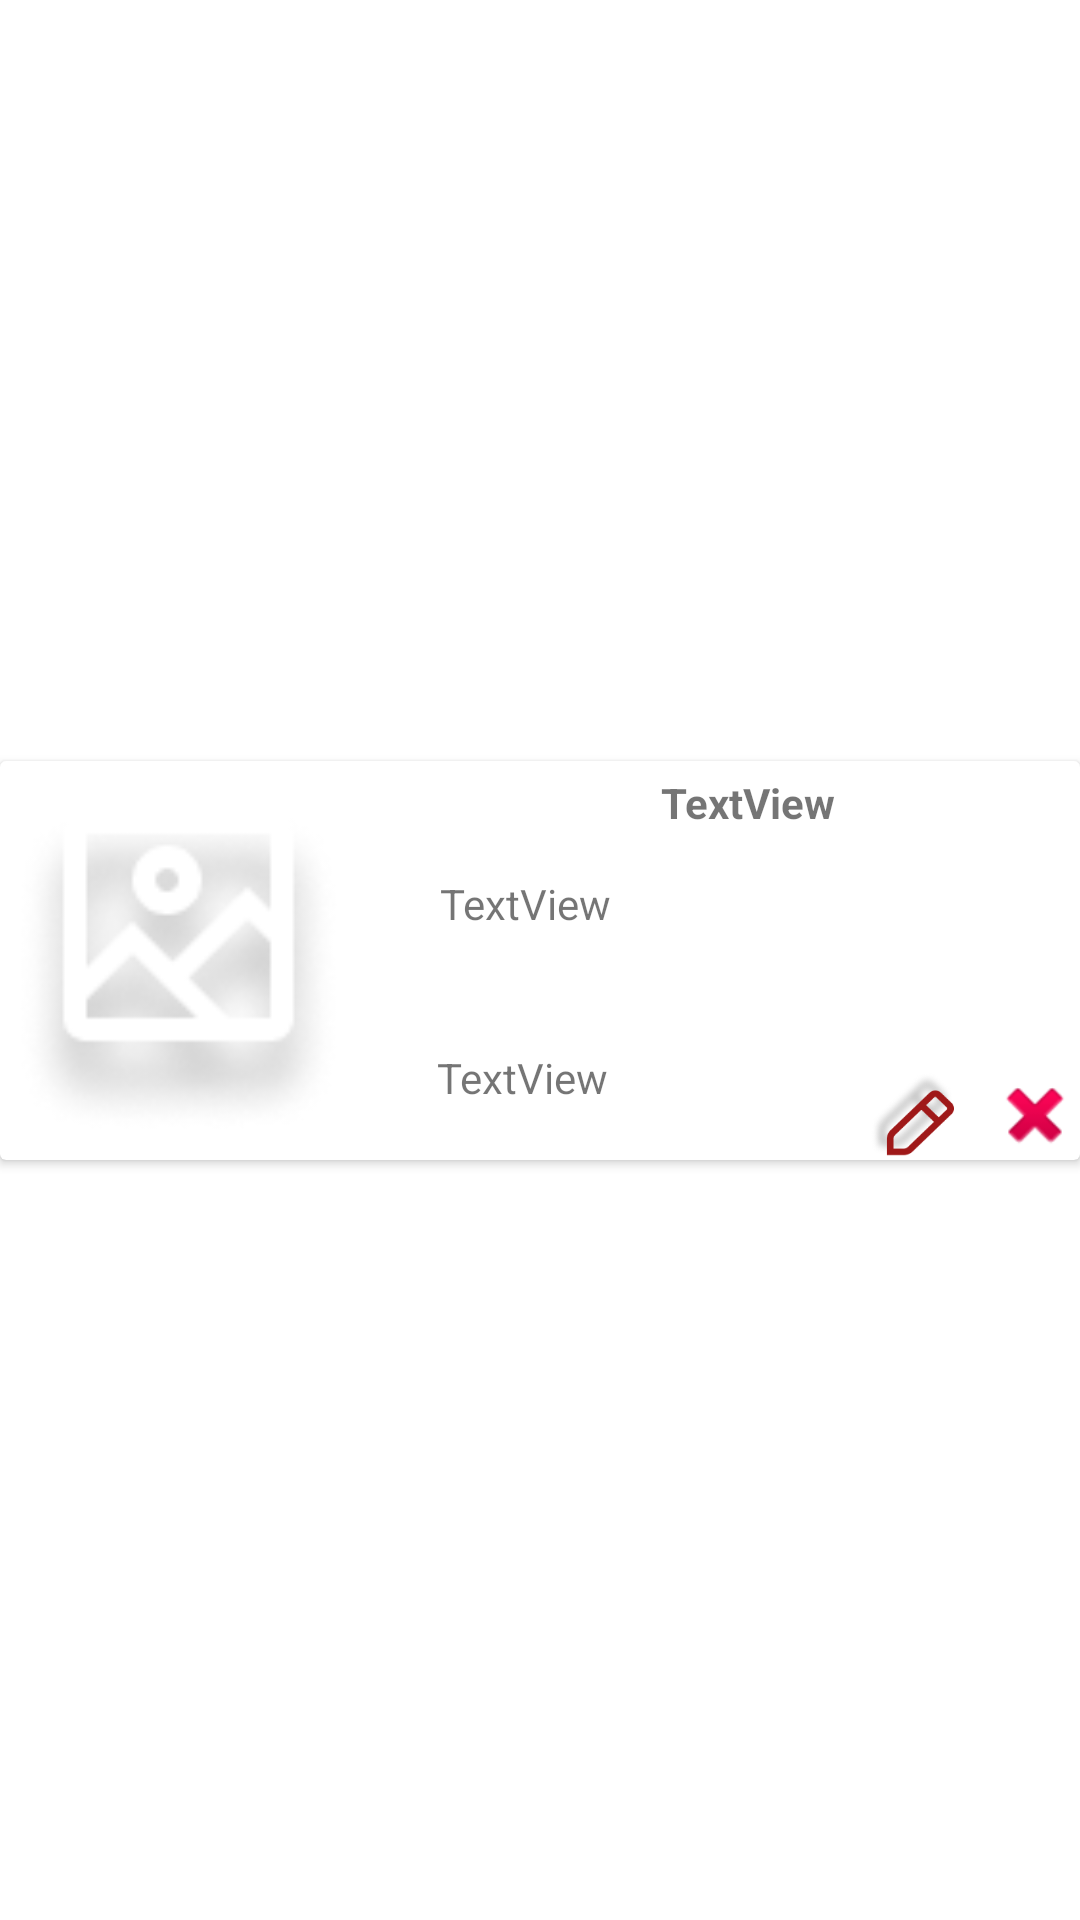

Named icons in this screenshot (1080 × 1920) and their centers, point (x, y):
delete: point (1035, 1115)
pencil create: point (916, 1118)
